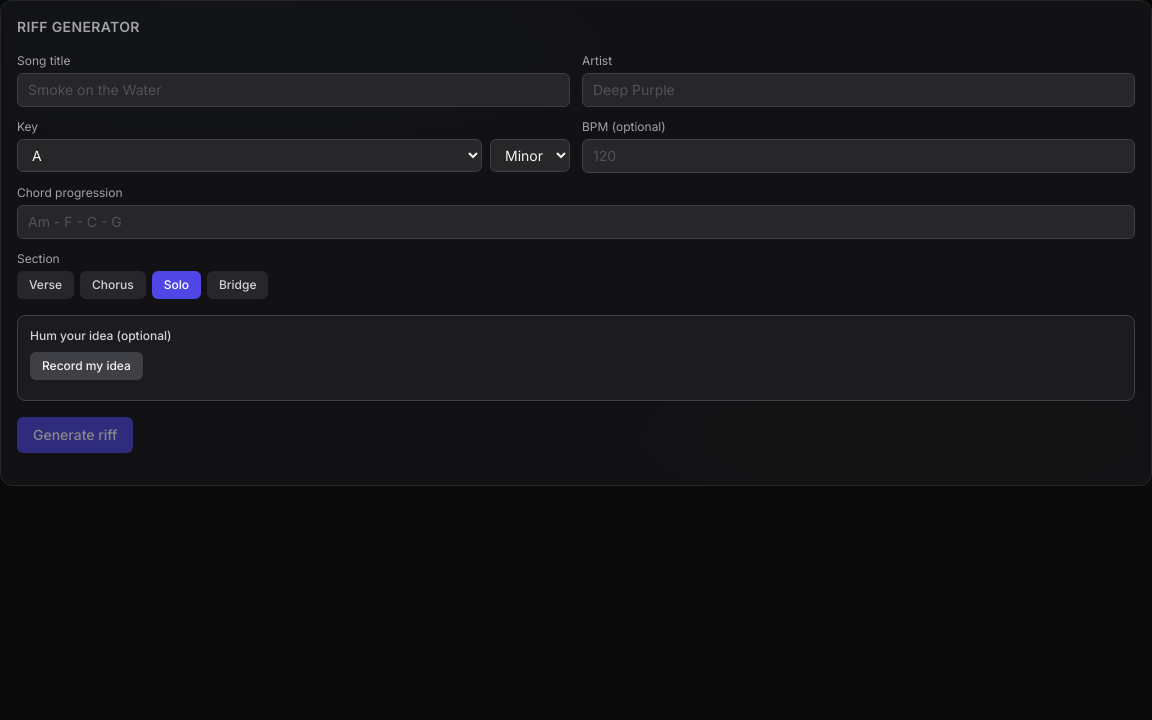
RiffGenerator › shows a Try again button alongside the error
In the field with placeholder "Smoke on the Water": (294, 90) [17,73,570,107], type "Test Song"
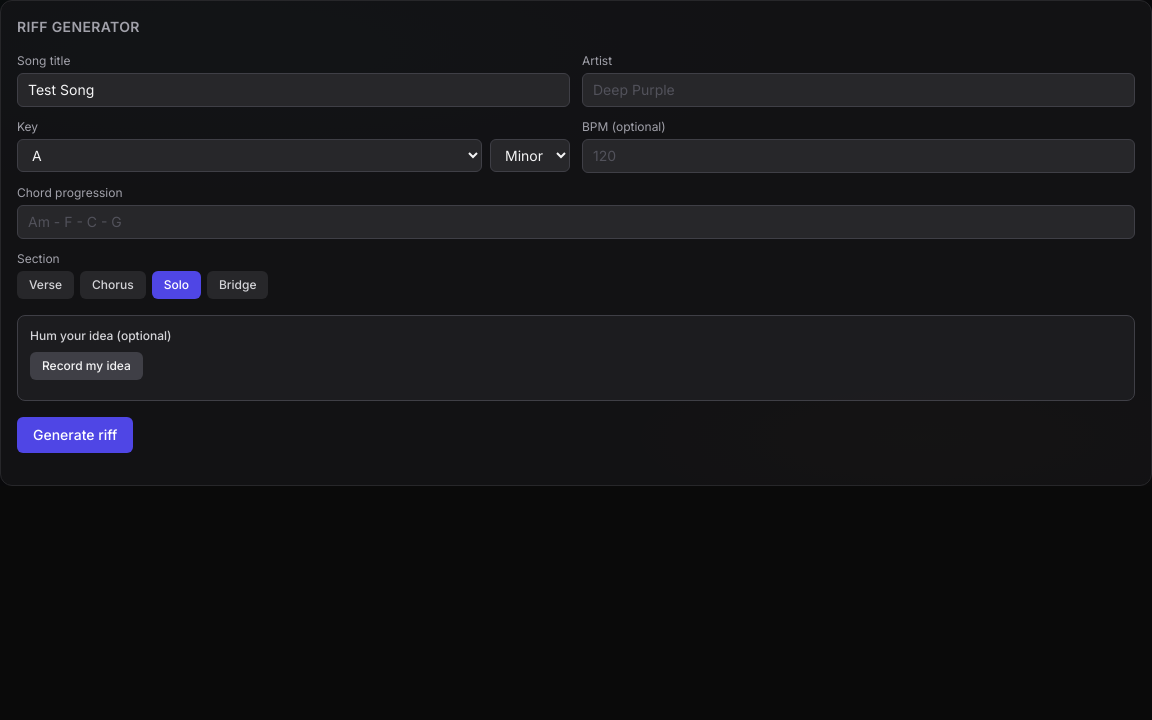
Click the button "Generate riff": (75, 435) [17,417,133,453]
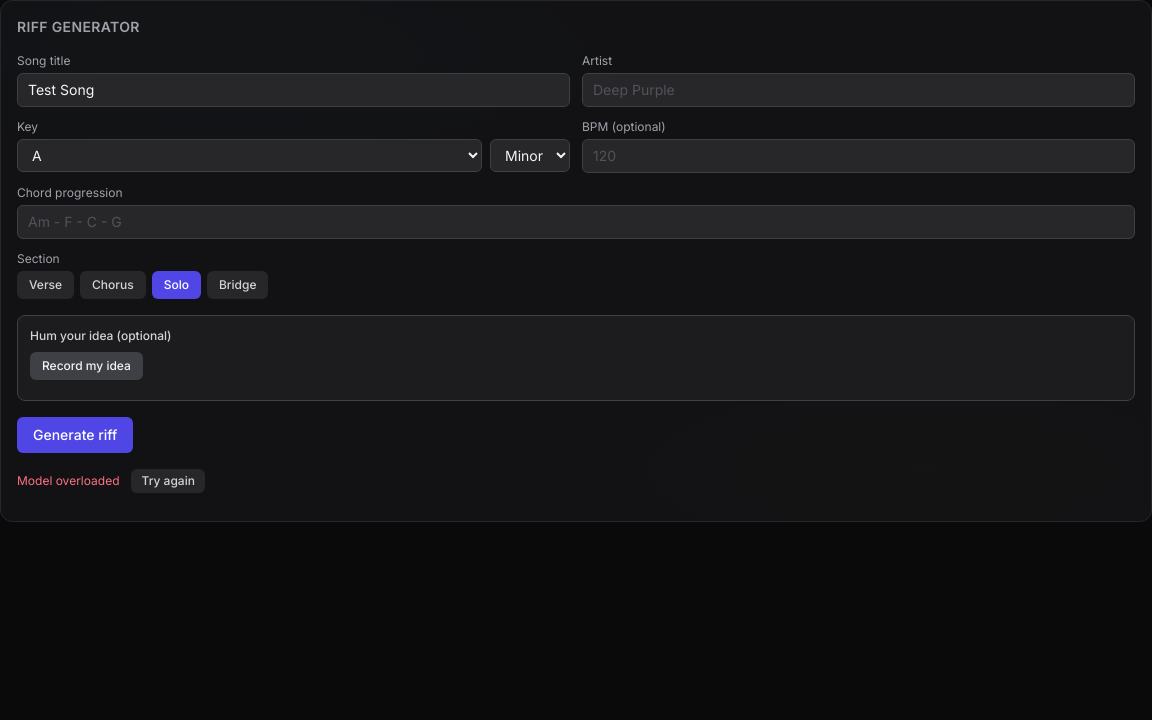
Check: the button "Try again" is shown, box [132,469,205,493]
